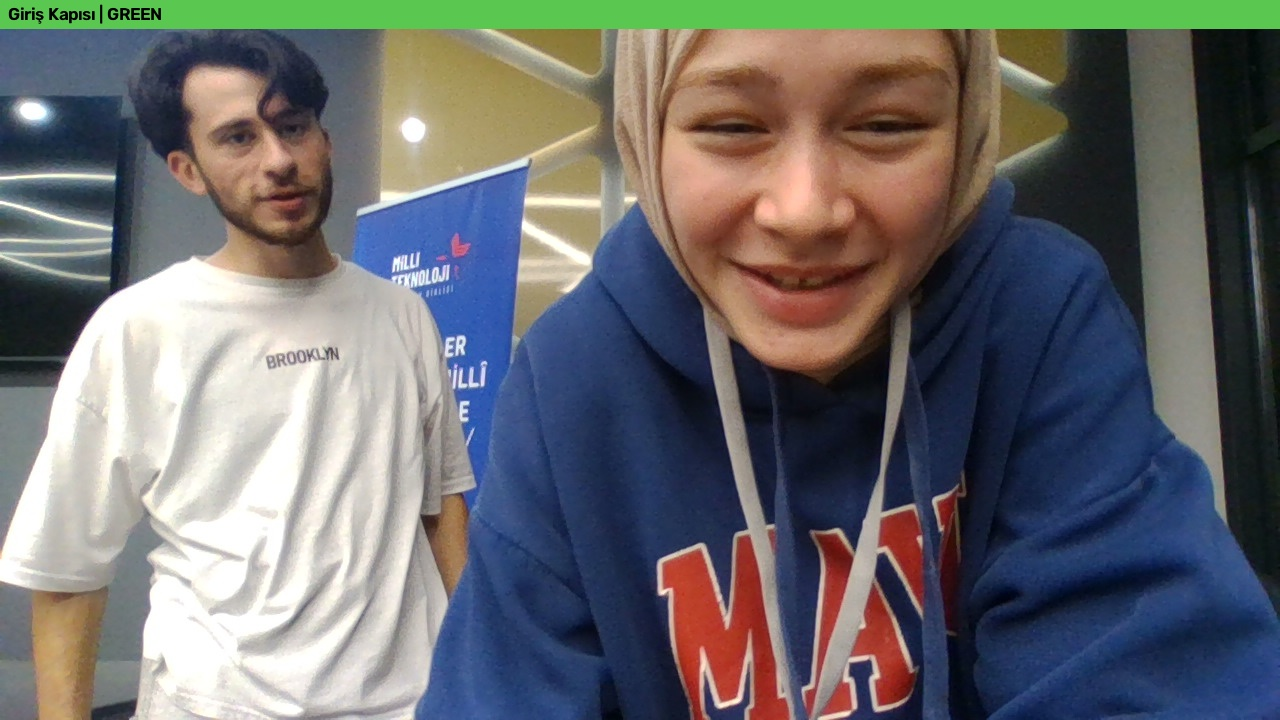weapon: (890, 552, 923, 711)
